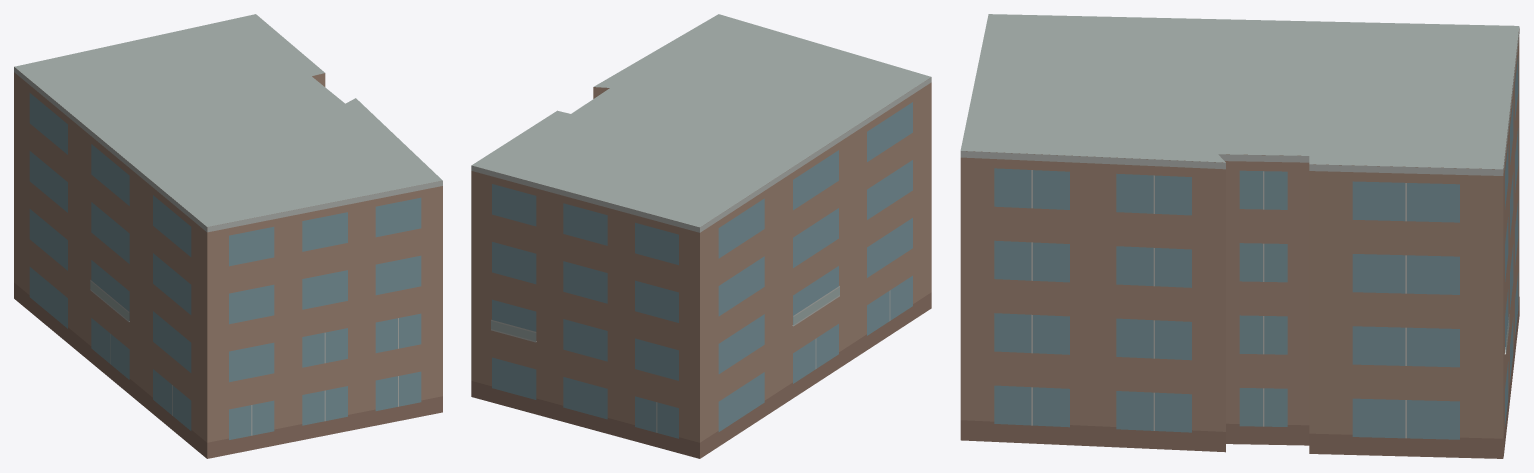
The model's file is survey-upis-32576205.glb.
3 renders of one model, left to right at view 1: azimuth 30°, elevation 25°; view 2: azimuth 150°, elevation 25°; view 3: azimuth 270°, elevation 25°, orthographic. The views are drawn at different scales.
Visible parts, largest first — view 1: survey-upis-32576205.tmp; view 2: survey-upis-32576205.tmp; view 3: survey-upis-32576205.tmp.
Boxes of the visible parts, x1,y1,x2,y2 form: survey-upis-32576205.tmp: [14, 14, 442, 458]; survey-upis-32576205.tmp: [471, 14, 931, 458]; survey-upis-32576205.tmp: [960, 14, 1519, 458].
Size of the model in its own units: 12.09 by 10.5 by 18.38.
